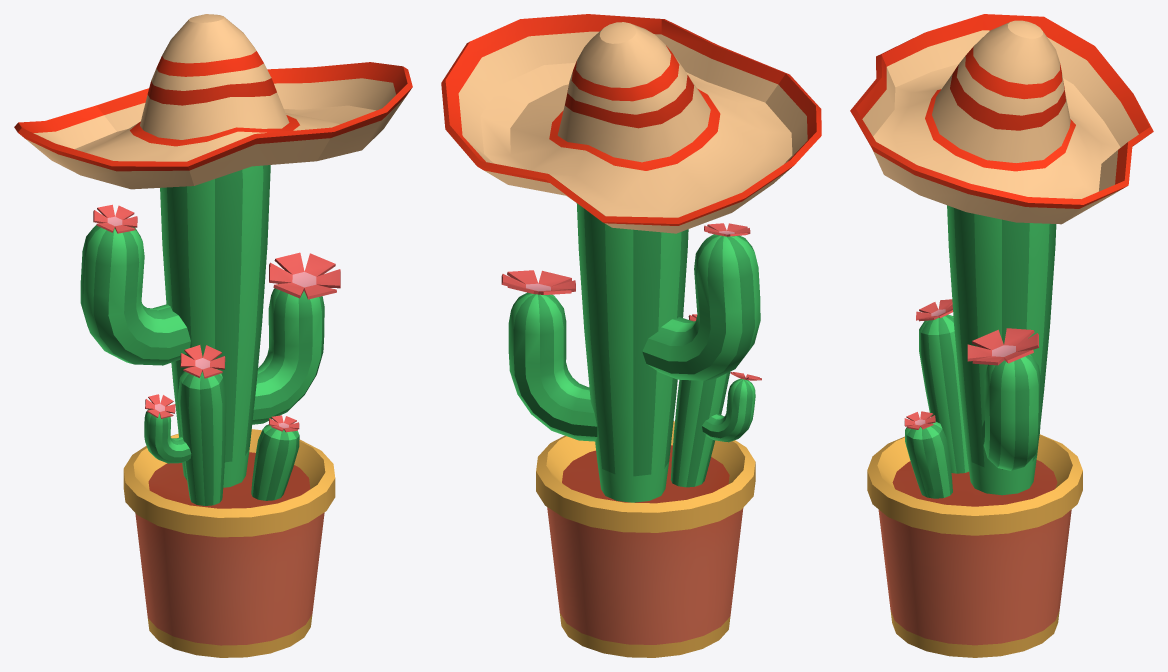
Rendered from Cay xuong rong.fbx.
3 views of the same model, side by side, from view 1: azimuth 30°, elevation 25°; view 2: azimuth 150°, elevation 25°; view 3: azimuth 270°, elevation 25° (orthographic). The views are drawn at different scales.
Parts seen in each view (by area): view 1: Deco_Cay_xuong_rong; view 2: Deco_Cay_xuong_rong; view 3: Deco_Cay_xuong_rong.
Part boxes in pixels (x1,y1,x2,y2): Deco_Cay_xuong_rong: (14,14,412,657); Deco_Cay_xuong_rong: (441,14,821,657); Deco_Cay_xuong_rong: (850,14,1153,657).
Size of the model in its own units: 149 by 237 by 109.
